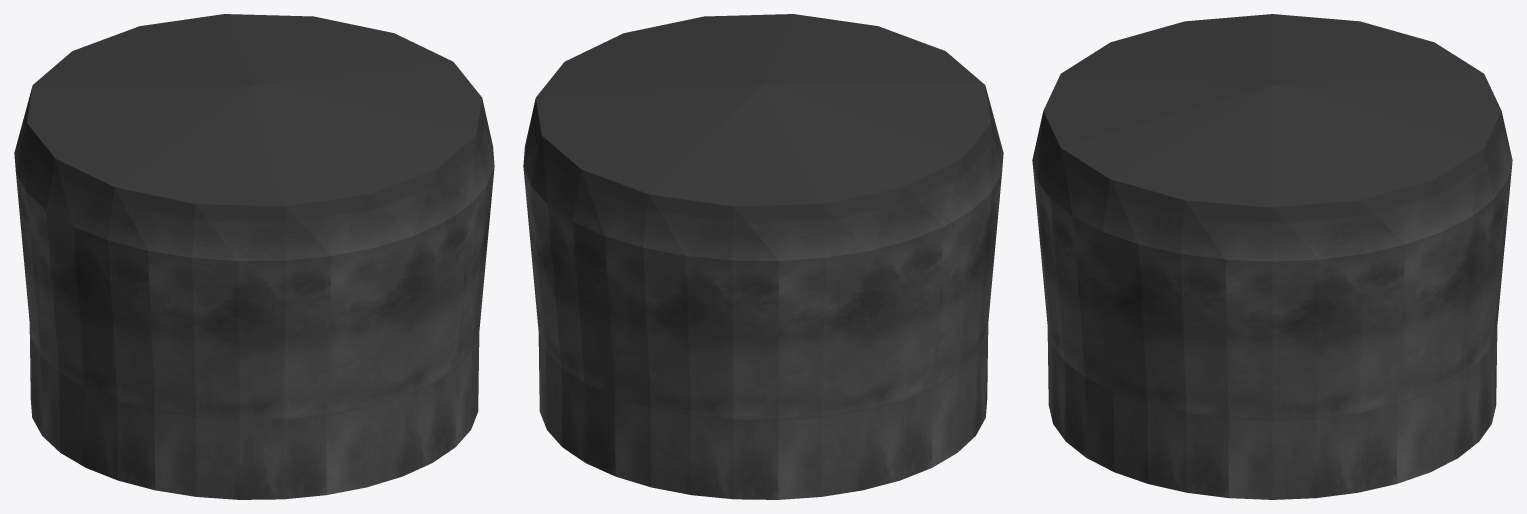
3 views of the same model, side by side, from view 1: azimuth 30°, elevation 25°; view 2: azimuth 150°, elevation 25°; view 3: azimuth 270°, elevation 25° (orthographic).
Parts seen in each view (by area): view 1: mesh00; view 2: mesh00; view 3: mesh00.
Boxes of the visible parts, <box> form: mesh00: <box>14,14,494,499</box>; mesh00: <box>523,14,1003,499</box>; mesh00: <box>1032,14,1512,499</box>.
Size of the model in its own units: 33083 by 24308 by 33083.
Materials: 1 (1 with a texture image).
